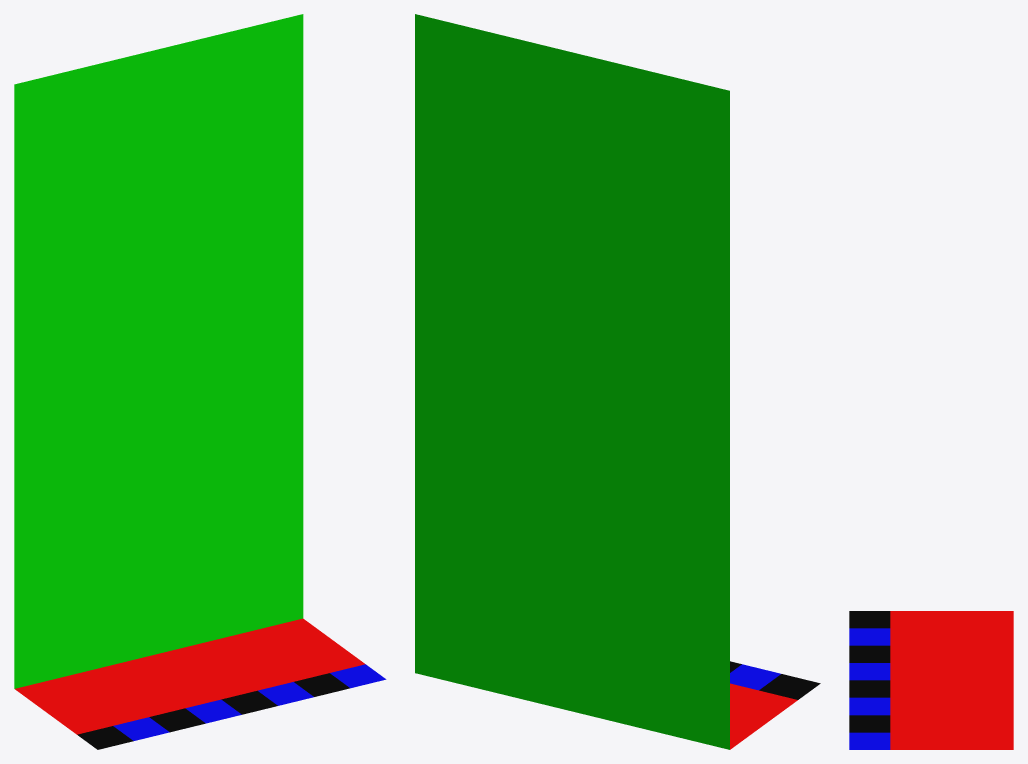
File: Wall_1x2_Smooth.fbx
3 renders of one model, left to right at view 1: azimuth 30°, elevation 25°; view 2: azimuth 150°, elevation 25°; view 3: azimuth 270°, elevation 25°, orthographic. The views are drawn at different scales.
Parts seen in each view (by area): view 1: Plane.010; view 2: Plane.010; view 3: Plane.010.
Part boxes in pixels (box(x1,y1,x2,y2)): Plane.010: box(14, 14, 386, 749); Plane.010: box(415, 14, 820, 749); Plane.010: box(849, 611, 1013, 749).
Size of the model in its own units: 1 by 2 by 0.5.
